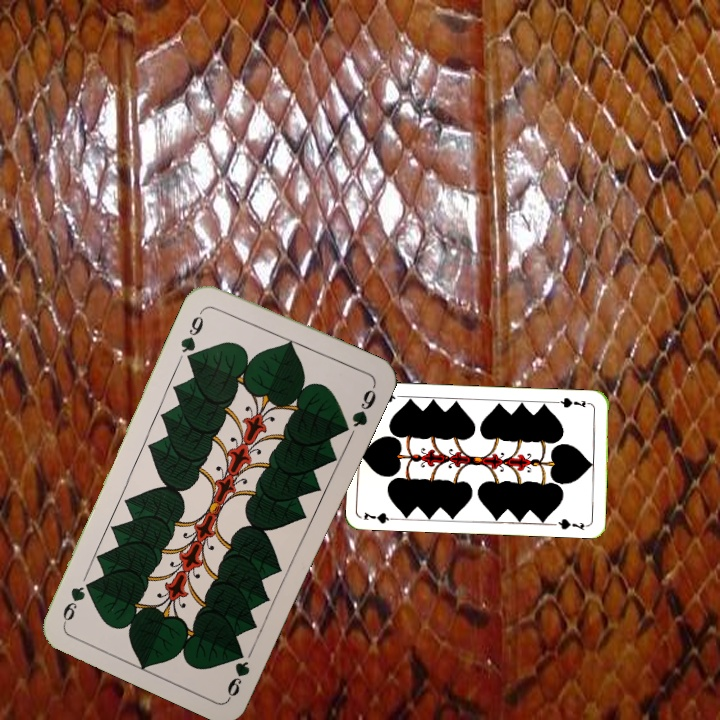G7: (360, 508, 401, 526), (553, 393, 594, 410)
G9: (176, 304, 209, 362), (223, 645, 253, 700)
